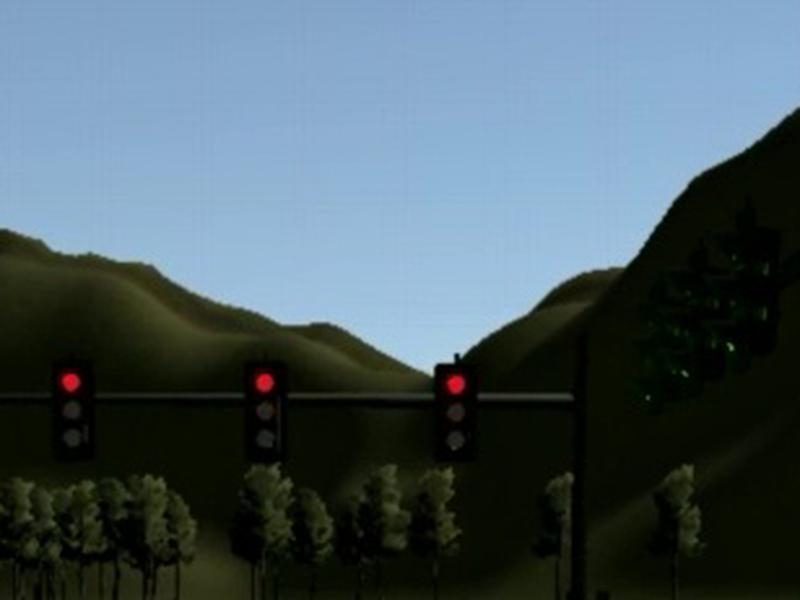Red: (243, 357, 289, 459), (48, 363, 93, 464), (437, 363, 479, 460)
